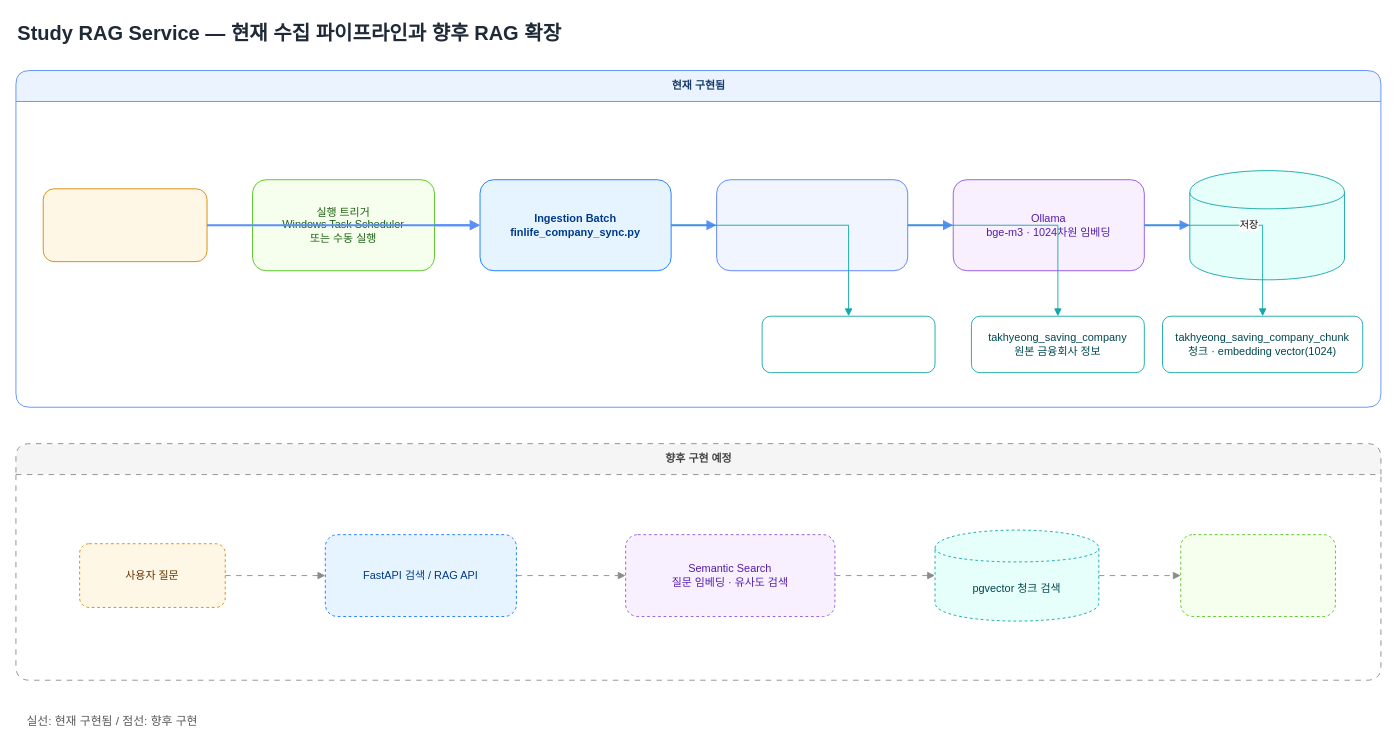
This 1397x750 diagram has some shape labels left out. Each missing label, with the centre of its shape:
"LLM 응답 생성 검색 컨텍스트 기반" goes at point 1257,575.
"PostgreSQL + pgvector chatbot schema" goes at point 1267,225.
"takhyeong_saving_log 수동 / 스케줄 실행 이력" goes at point 848,344.
"외부 REST API Finlife companySearch" goes at point 124,225.
"텍스트 정제 · 정규화 LangChain 청크 분할" goes at point 812,225.
